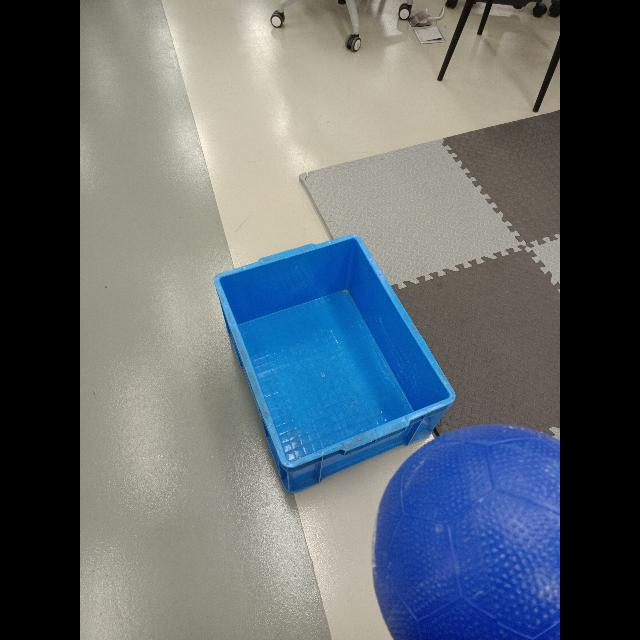B: (374, 416, 560, 638)
